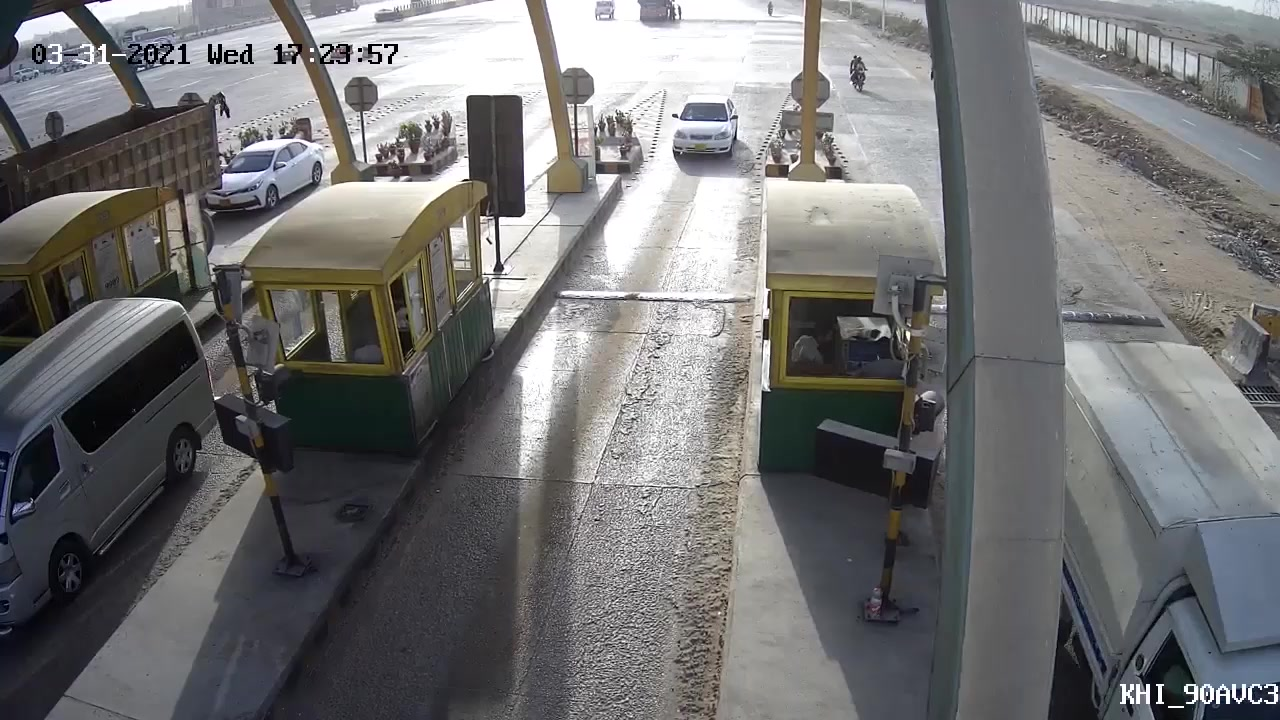F1: (656, 81, 748, 169)
